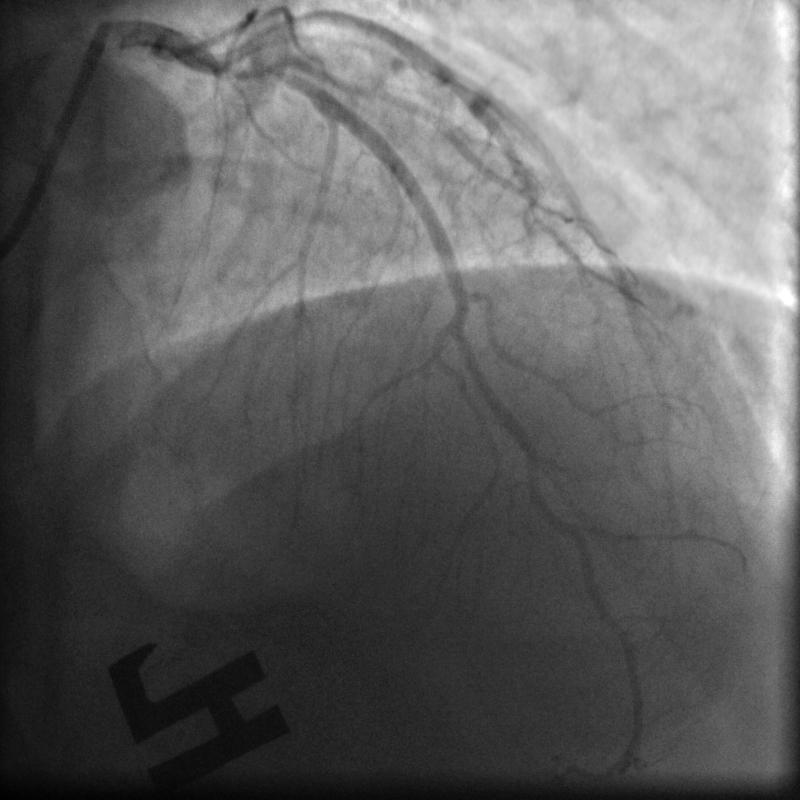Stenosis: (211, 46, 283, 82)
